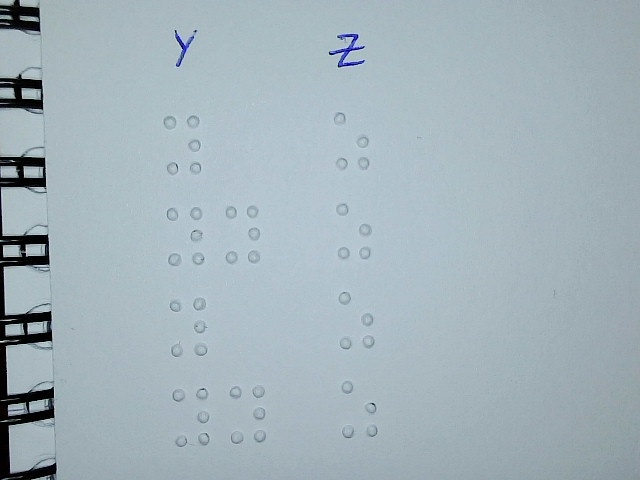Y: (161, 113, 204, 176), (223, 202, 262, 265), (228, 382, 267, 445), (169, 295, 208, 358)
Z: (331, 110, 372, 172), (333, 199, 374, 261), (336, 288, 377, 350), (339, 378, 380, 440)
